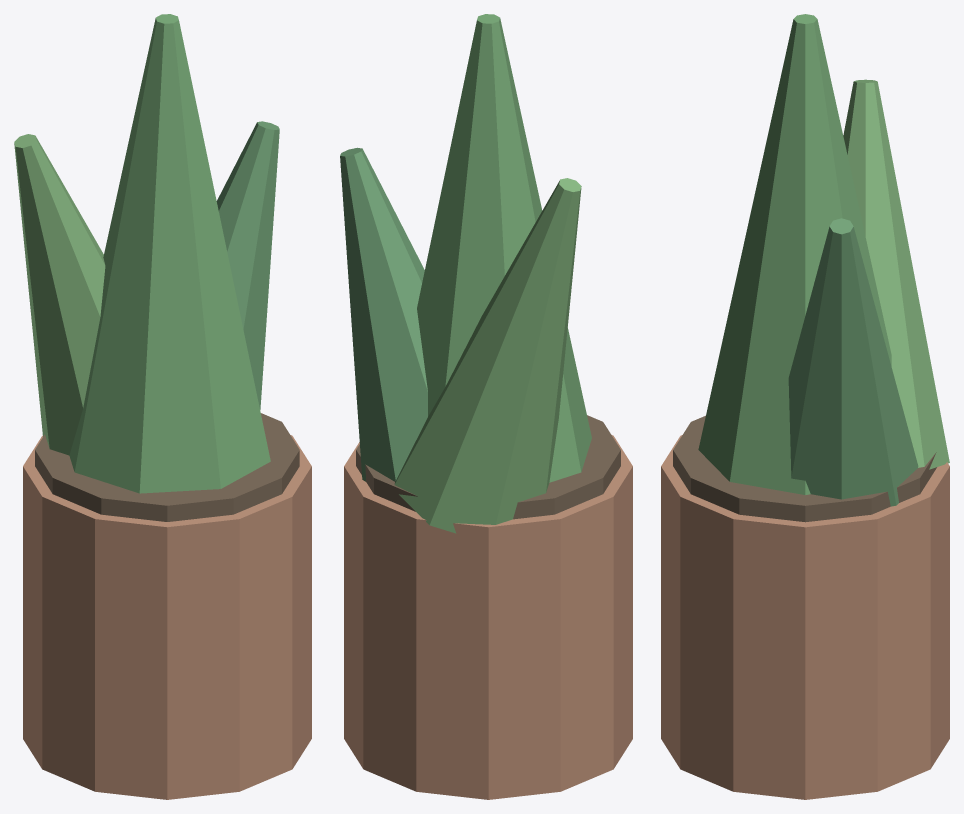
File: bed_planta_vaso.glb
The picture shows the model from 3 angles, left to right: view 1: azimuth 30°, elevation 25°; view 2: azimuth 150°, elevation 25°; view 3: azimuth 270°, elevation 25°; orthographic projection.
Parts seen in each view (by area): view 1: BED_Planta_Vaso_v01; view 2: BED_Planta_Vaso_v01; view 3: BED_Planta_Vaso_v01.
Boxes of the visible parts, x1=… form: BED_Planta_Vaso_v01: x1=14, y1=14, x2=311, y2=799; BED_Planta_Vaso_v01: x1=340, y1=14, x2=632, y2=799; BED_Planta_Vaso_v01: x1=661, y1=14, x2=949, y2=799.
Size of the model in its own units: 0.2439 by 0.66 by 0.24.
